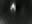person: (11, 3, 17, 14)
